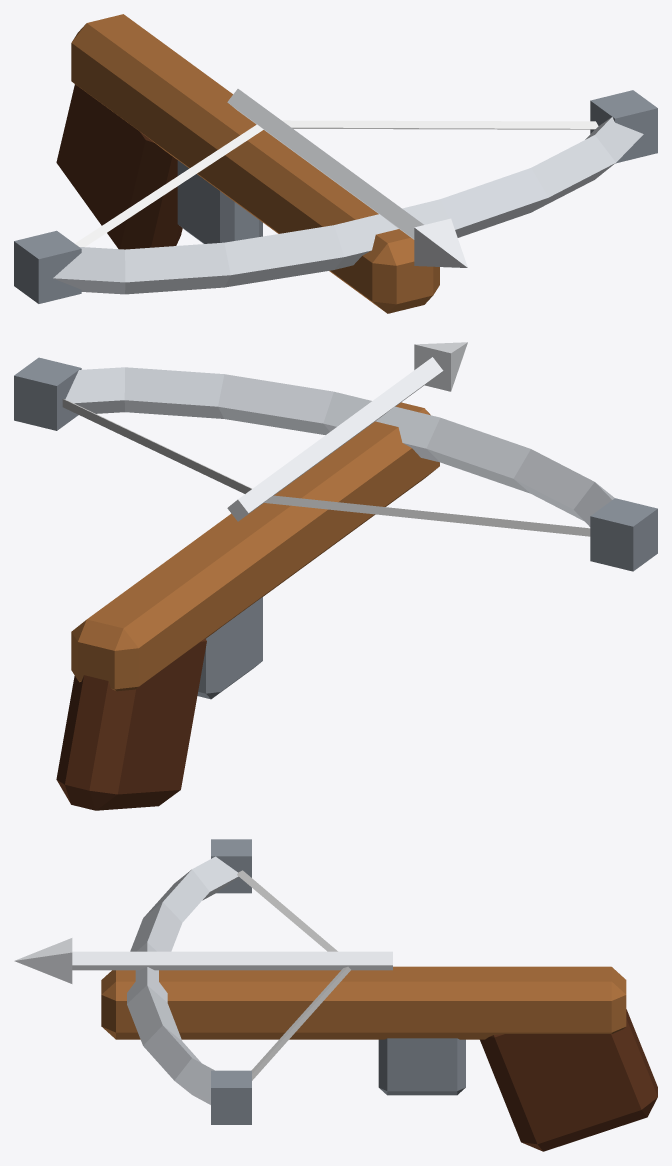
File: IronCrossbow.fbx
The picture shows the model from 3 angles, top to bottom: view 1: azimuth 30°, elevation 25°; view 2: azimuth 150°, elevation 25°; view 3: azimuth 270°, elevation 25°; orthographic projection. The views are drawn at different scales.
Parts seen in each view (by area): view 1: IronCrossbow; view 2: IronCrossbow; view 3: IronCrossbow.
Part boxes in pixels (x1,y1,x2,y2): IronCrossbow: (14,14,657,313); IronCrossbow: (14,342,657,810); IronCrossbow: (14,839,657,1151).
Bounding box in the file's own units: 2.02 × 0.7634 × 2.21.
Materials: 1 (1 with a texture image).
